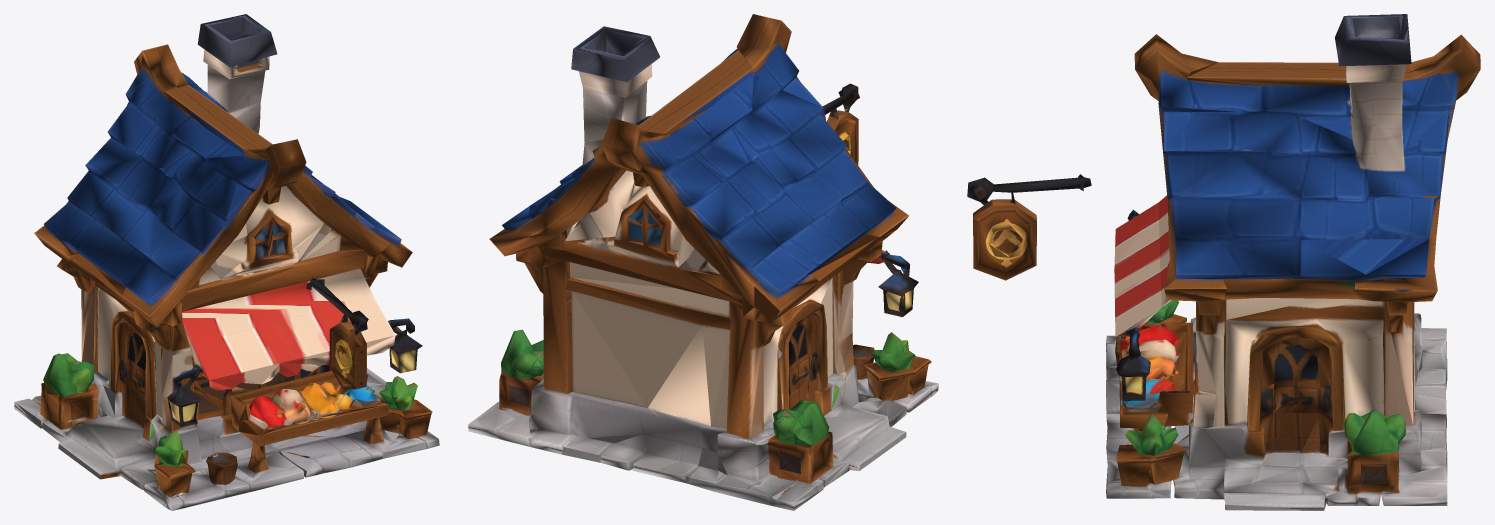
File: shop_market.fbx
3 renders of one model, left to right at view 1: azimuth 30°, elevation 25°; view 2: azimuth 150°, elevation 25°; view 3: azimuth 270°, elevation 25°, orthographic. The views are drawn at different scales.
Parts seen in each view (by area): view 1: shop_market; view 2: shop_market; view 3: shop_market.
Part boxes in pixels (left/top/right/bottom): shop_market: left=14, top=14, right=439, bottom=510; shop_market: left=468, top=14, right=938, bottom=510; shop_market: left=967, top=14, right=1480, bottom=510.
Size of the model in its own units: 4.94 by 5.52 by 6.
1 material, 1 textured.
